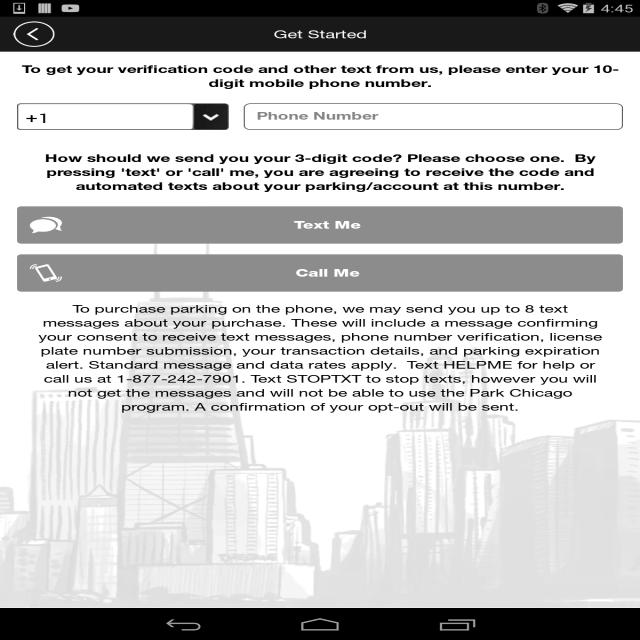Button: (8, 197, 624, 247), (6, 251, 624, 299)
EditText: (232, 96, 629, 137)
ImageButton: (5, 20, 60, 47)
TextView: (17, 305, 602, 416), (36, 148, 602, 187), (263, 28, 381, 46)
